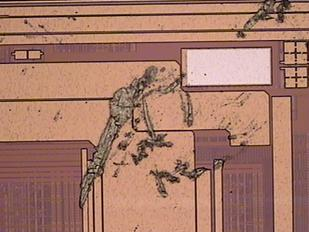SCRATCH: (78, 1, 294, 210)
